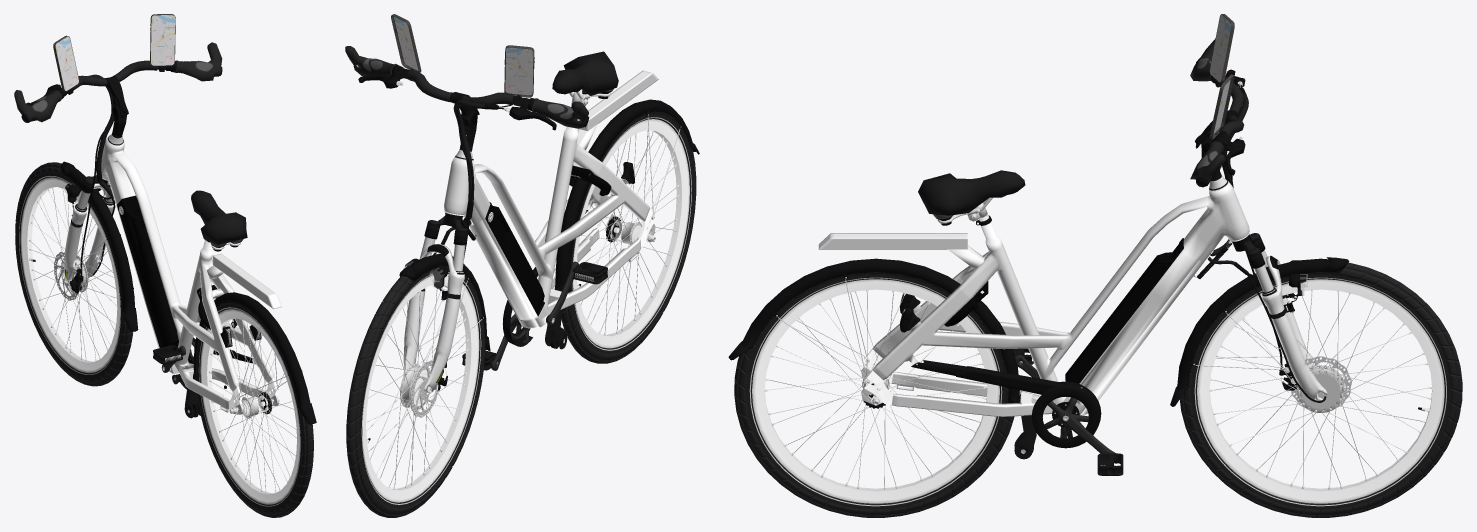
The model's file is bike.glb.
3 views of the same model, side by side, from view 1: azimuth 30°, elevation 25°; view 2: azimuth 150°, elevation 25°; view 3: azimuth 270°, elevation 25° (orthographic). The views are drawn at different scales.
Parts seen in each view (by area): view 1: E-bike frame, E-bike wheel front, E-bike handlebar, Iphone 16promax.001, E-bike suspension fork, E-bike cables, E-bike pedal.L; view 2: E-bike frame, E-bike wheel front, E-bike handlebar, E-bike suspension fork, Iphone 16promax.001, E-bike cables, E-bike pedal.L; view 3: E-bike frame, E-bike wheel front, E-bike suspension fork, E-bike handlebar, Iphone 16promax.001.
Boxes of the visible parts, x1,y1,x2,y2 form: E-bike frame: [20, 14, 316, 504]; E-bike wheel front: [15, 162, 313, 517]; E-bike handlebar: [14, 42, 222, 122]; Iphone 16promax.001: [55, 15, 175, 90]; E-bike suspension fork: [64, 175, 247, 279]; E-bike cables: [88, 74, 114, 198]; E-bike pedal.L: [153, 345, 182, 381]; E-bike frame: [353, 14, 699, 502]; E-bike wheel front: [346, 111, 696, 517]; E-bike handlebar: [345, 46, 588, 128]; E-bike suspension fork: [403, 51, 618, 382]; Iphone 16promax.001: [393, 16, 533, 95]; E-bike cables: [447, 100, 484, 232]; E-bike pedal.L: [462, 262, 607, 370]; E-bike frame: [728, 14, 1444, 503]; E-bike wheel front: [734, 262, 1462, 517]; E-bike suspension fork: [918, 170, 1307, 295]; E-bike handlebar: [1190, 38, 1243, 186]; Iphone 16promax.001: [1209, 14, 1231, 133].
Size of the model in its own units: 0.2353 by 0.4169 by 0.5911.
16 materials, 12 textured.
